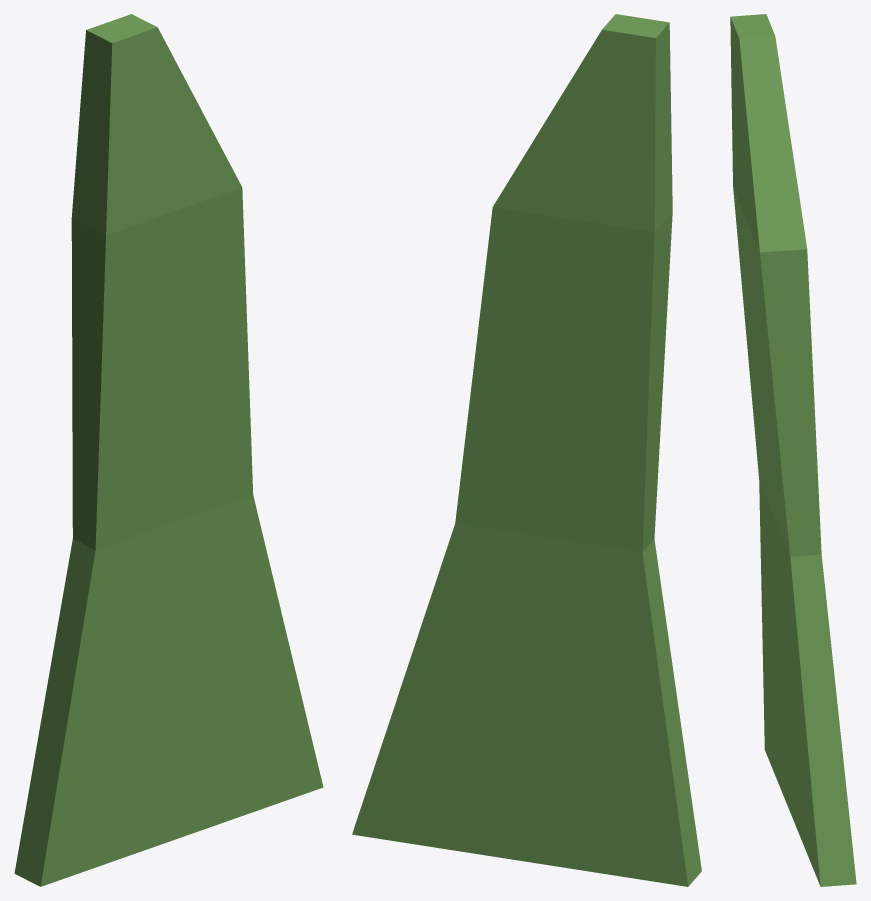
Rendered from Grass_3.fbx.
3 renders of one model, left to right at view 1: azimuth 30°, elevation 25°; view 2: azimuth 150°, elevation 25°; view 3: azimuth 270°, elevation 25°, orthographic. The views are drawn at different scales.
Visible parts, largest first — view 1: Grass3_mesh; view 2: Grass3_mesh; view 3: Grass3_mesh.
Boxes of the visible parts, x1,y1,x2,y2 form: Grass3_mesh: (14, 14, 323, 886); Grass3_mesh: (352, 14, 701, 886); Grass3_mesh: (730, 14, 856, 886).
Bounding box in the file's own units: 8.23 × 20.77 × 3.14.
